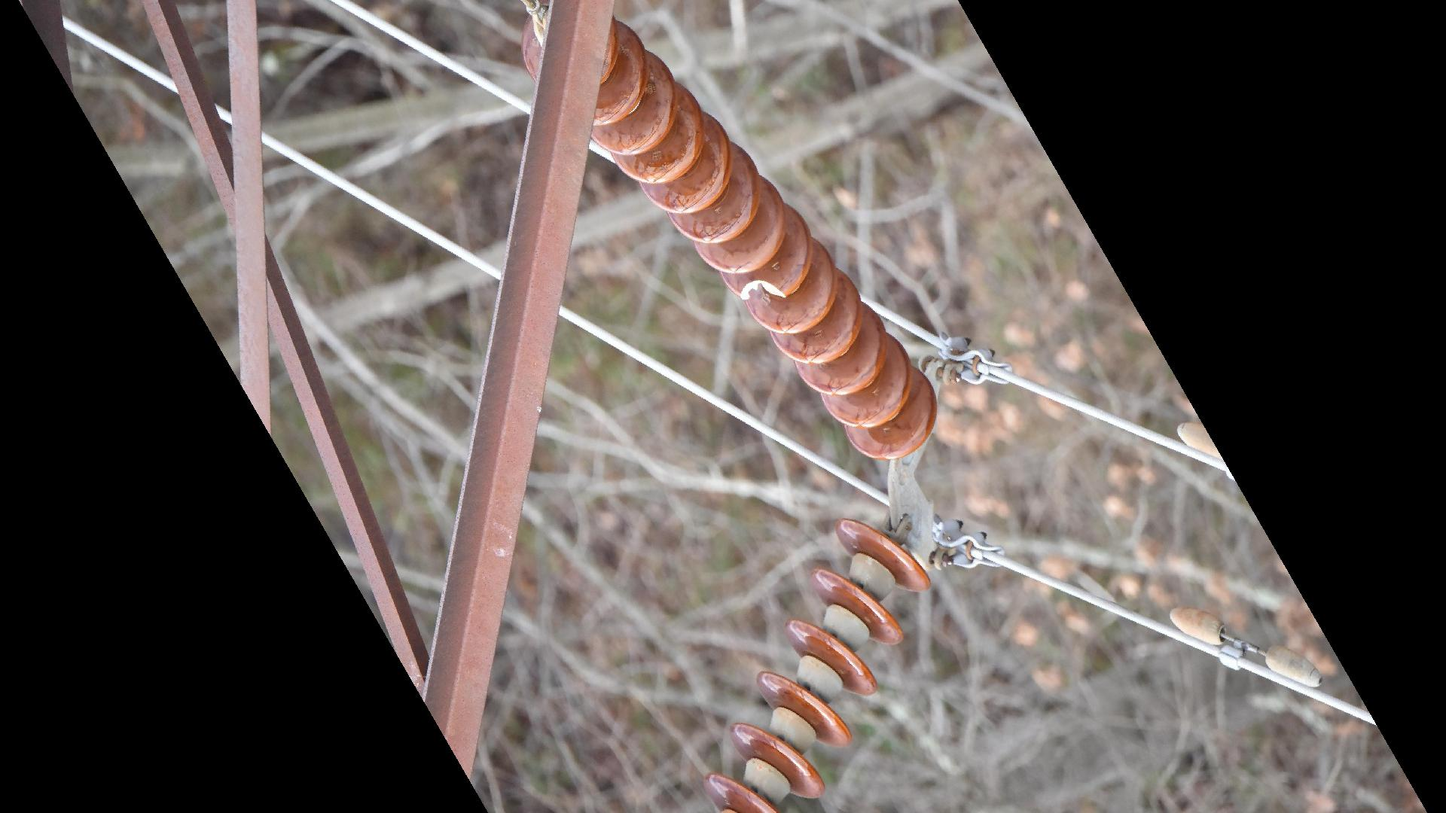insulator: (520, 1, 944, 470), (700, 513, 935, 813)
insulator_breakage: (732, 276, 792, 307)
